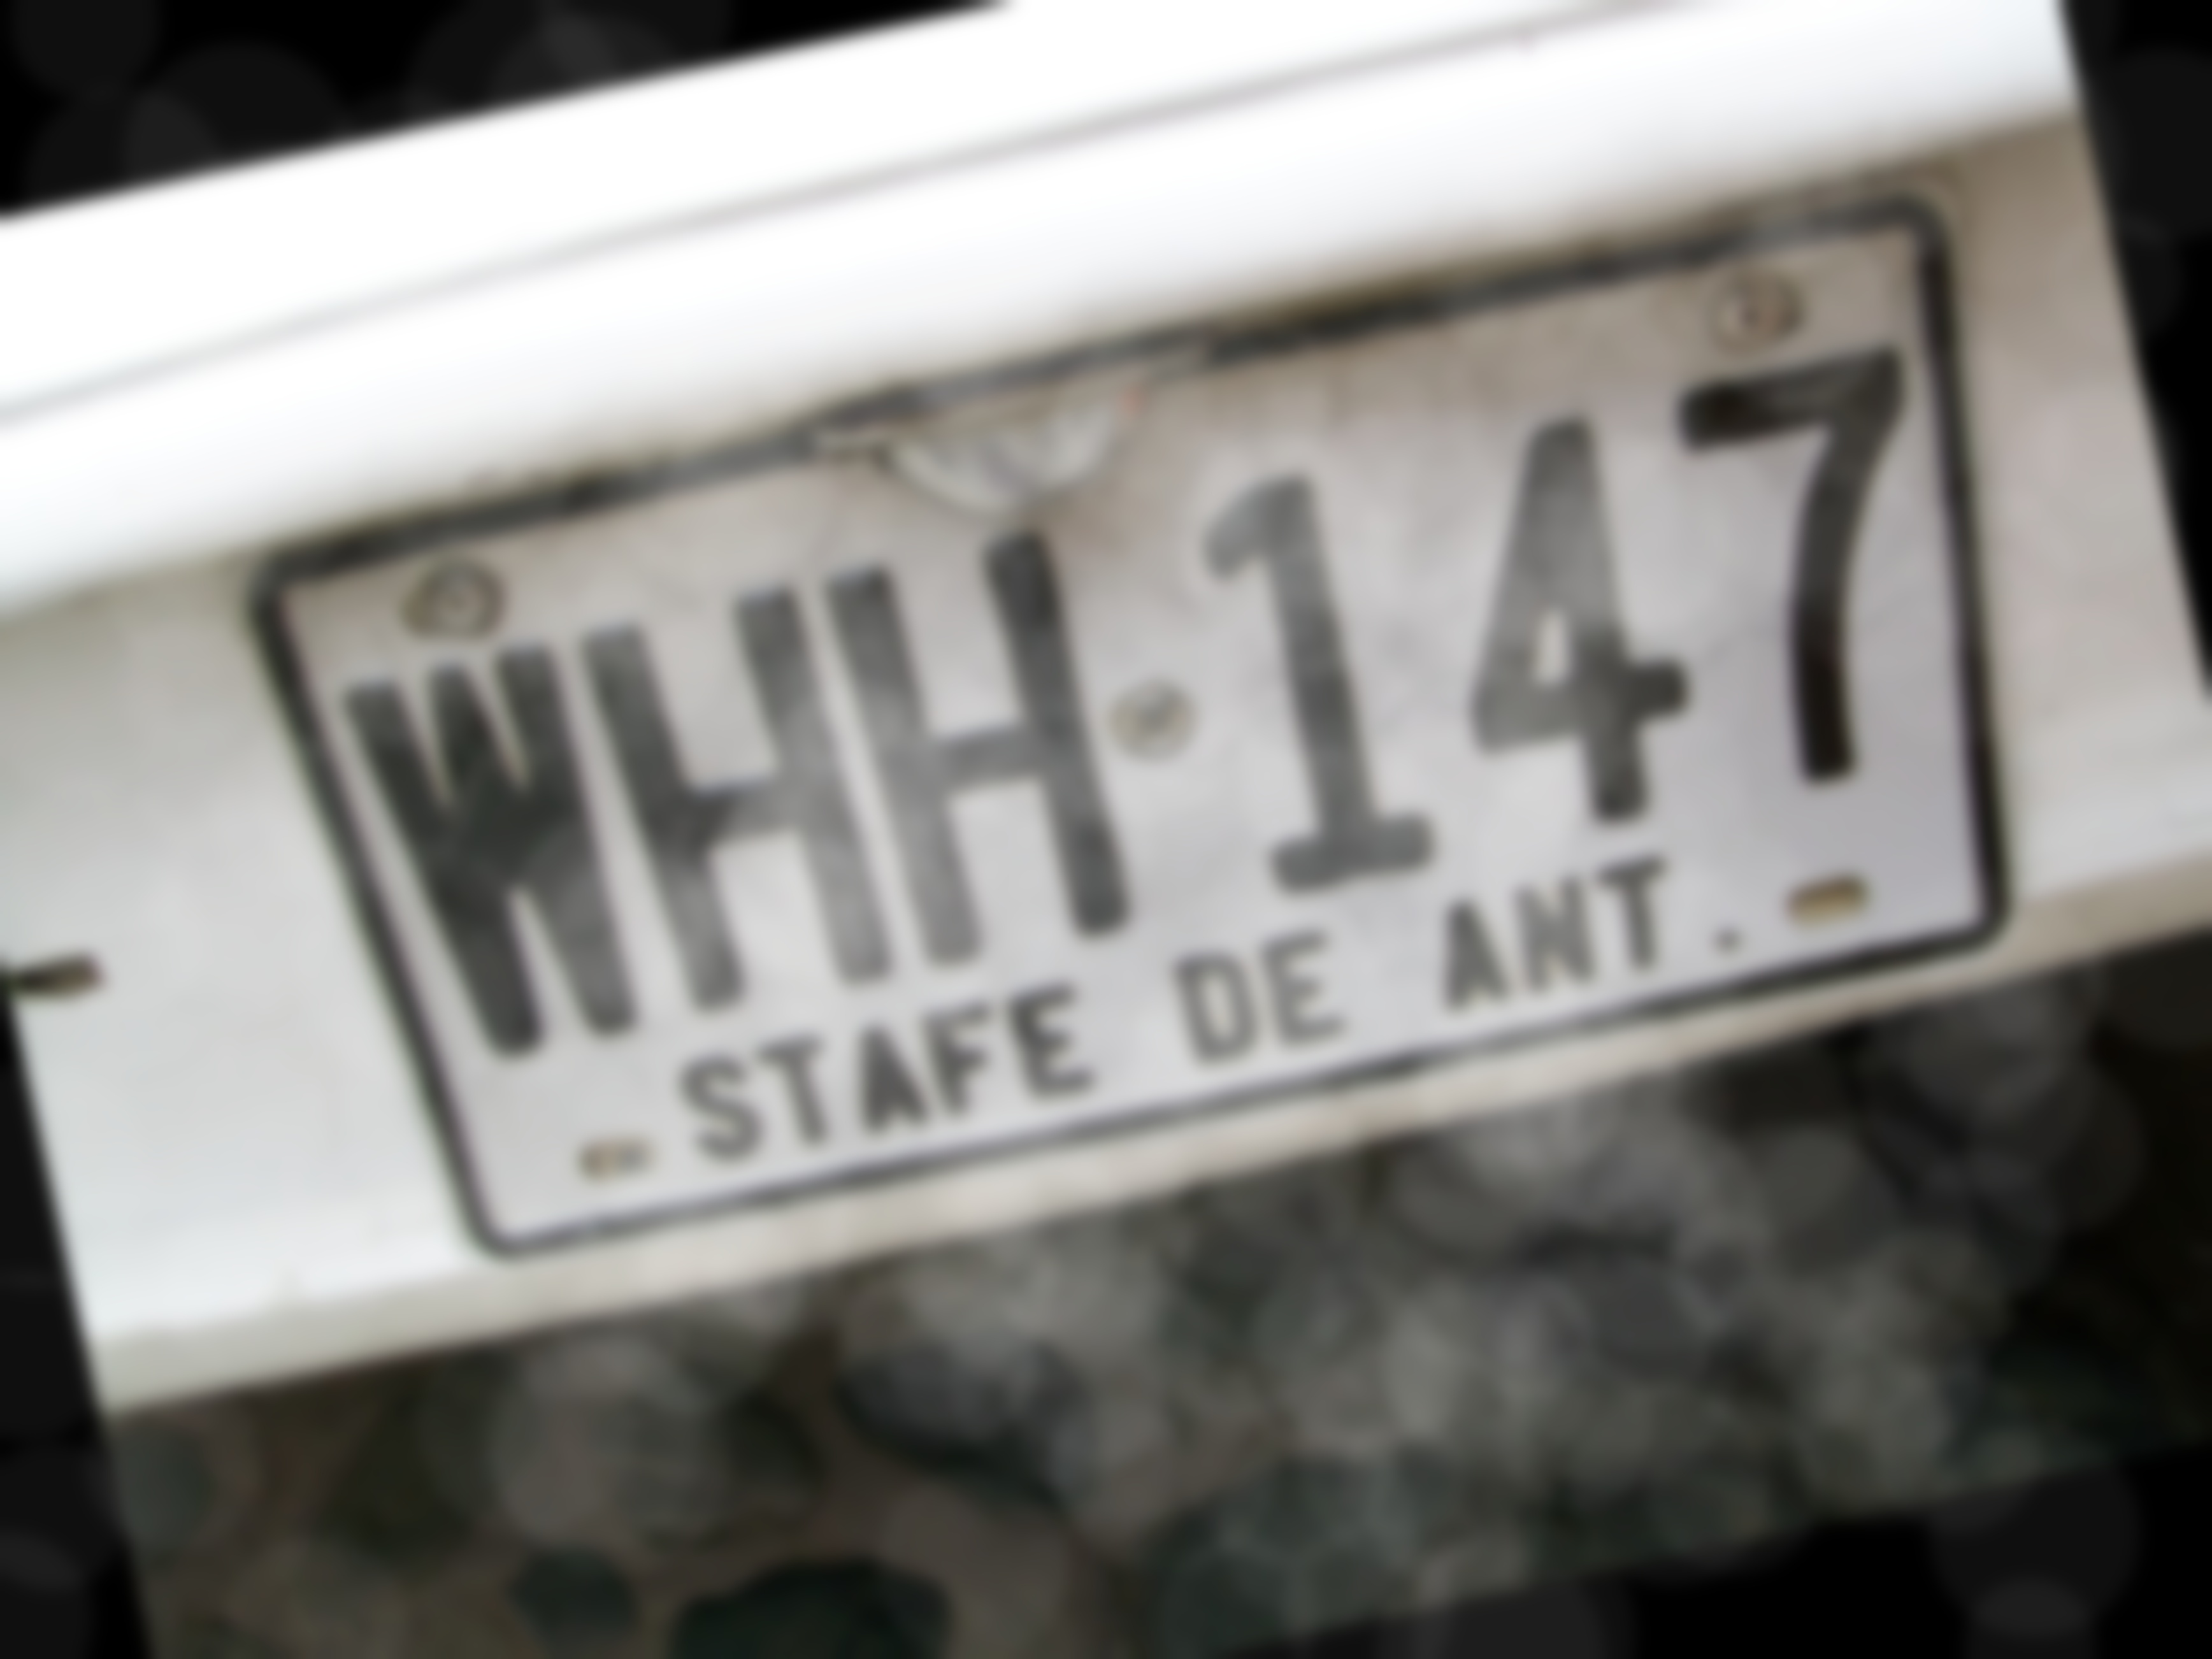placas: (206, 154, 2124, 1318)
